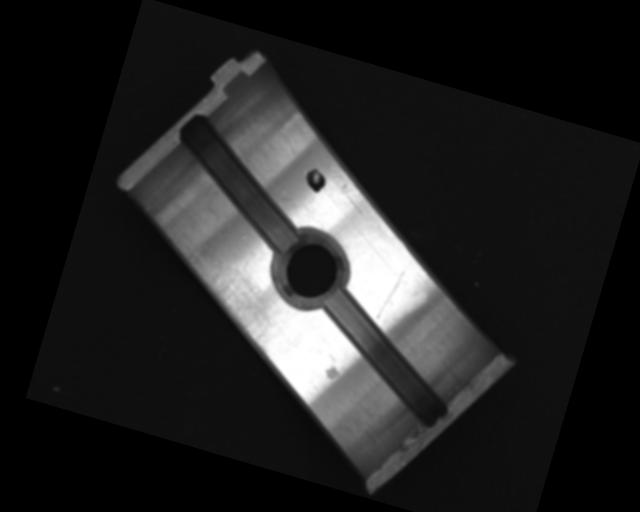blot: (301, 165, 330, 196)
bruise: (322, 362, 343, 383)
gap: (300, 284, 472, 431), (156, 111, 325, 256)
hole: (261, 220, 360, 319)
nick: (376, 265, 407, 323)
scratch: (154, 239, 295, 359)
